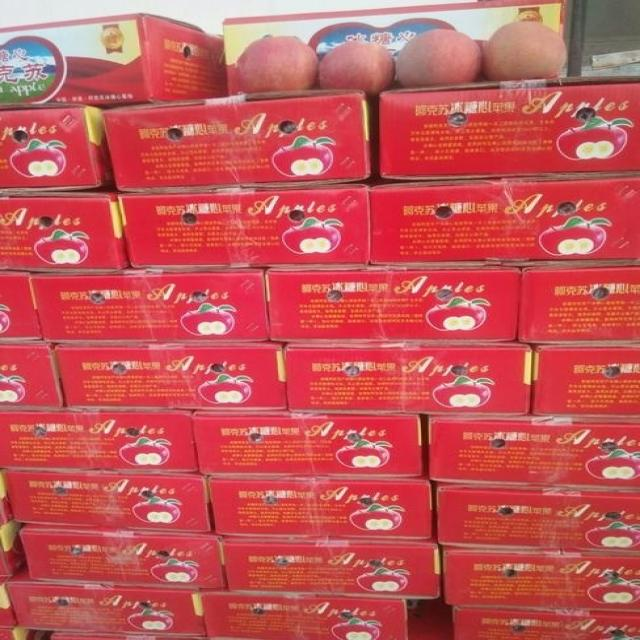box: (224, 0, 568, 98), (102, 89, 374, 191), (374, 77, 640, 180), (369, 176, 640, 267), (0, 13, 231, 105), (117, 185, 370, 267), (266, 267, 523, 345), (281, 338, 531, 416), (31, 267, 270, 342), (424, 415, 640, 494), (52, 342, 289, 411), (429, 480, 640, 557), (205, 475, 434, 544), (189, 411, 422, 478), (3, 568, 207, 639), (0, 466, 210, 534), (439, 544, 640, 613), (215, 538, 441, 599), (18, 523, 226, 589), (1, 409, 194, 476), (201, 589, 408, 639), (0, 102, 115, 191), (0, 191, 129, 270), (517, 267, 640, 348), (529, 342, 640, 424), (449, 605, 640, 640), (0, 341, 64, 411), (0, 269, 43, 344), (0, 520, 28, 582)
